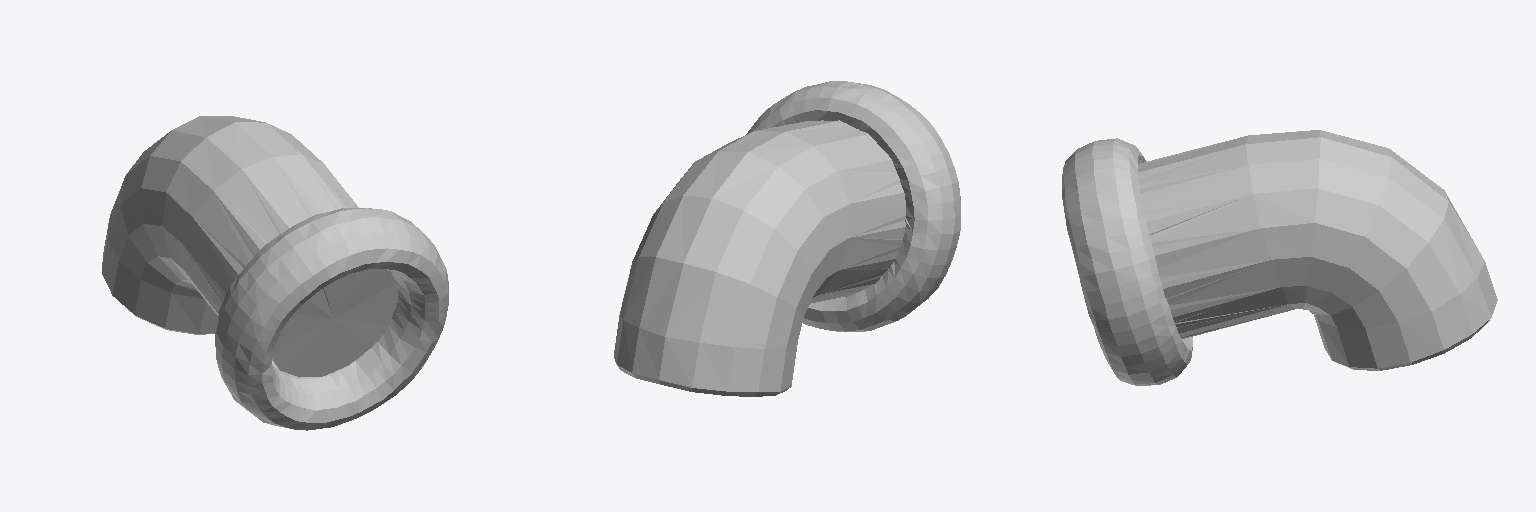
File: exhaust_valve_1.obj
The picture shows the model from 3 angles: view 1: azimuth 30°, elevation 25°; view 2: azimuth 150°, elevation 25°; view 3: azimuth 270°, elevation 25°; orthographic projection.
Parts seen in each view (by area): view 1: exhaust_1; view 2: exhaust_1; view 3: exhaust_1.
Boxes of the visible parts, x1=… form: exhaust_1: x1=102, y1=116, x2=448, y2=430; exhaust_1: x1=614, y1=81, x2=960, y2=396; exhaust_1: x1=1062, y1=130, x2=1497, y2=385.
Size of the model in its own units: 0.0002 by 0.0002 by 0.0003.